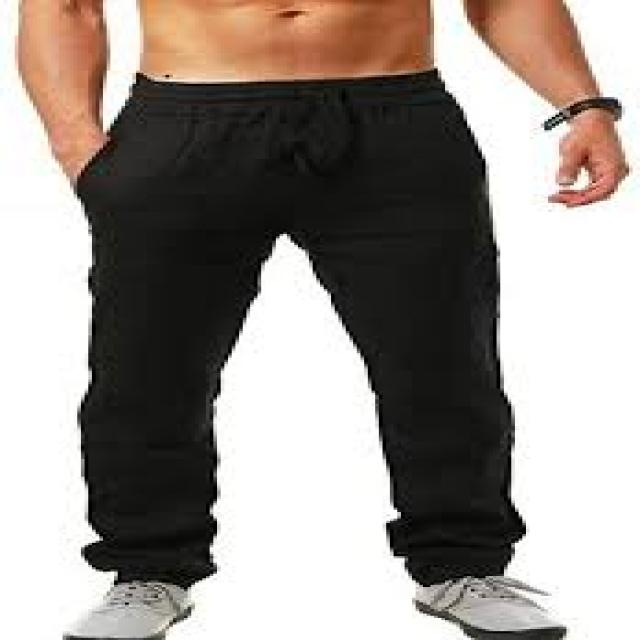long-pants: (76, 69, 528, 585)
